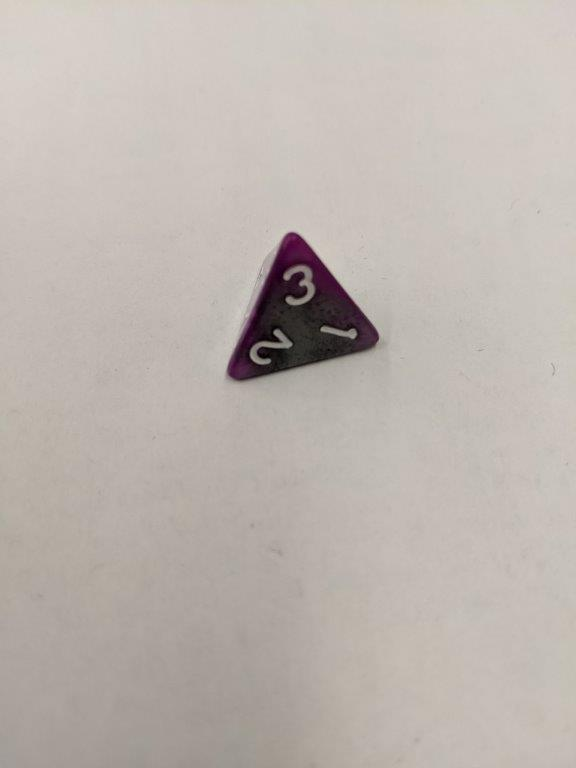d4-3: (218, 228, 384, 390)
